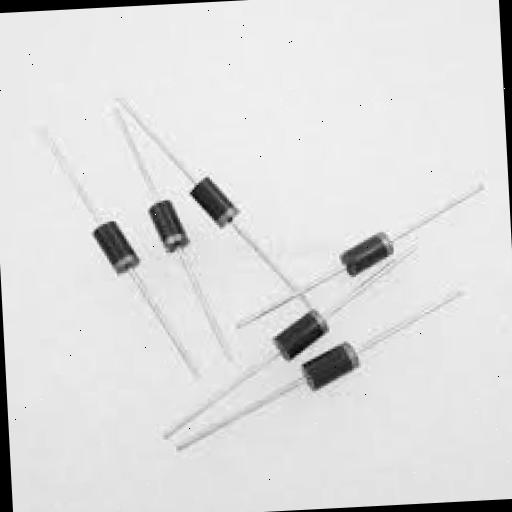DIODE: (39, 74, 499, 456), (152, 154, 264, 255), (306, 204, 427, 296), (231, 296, 358, 373), (295, 339, 412, 419), (84, 206, 156, 318), (134, 181, 208, 281)
